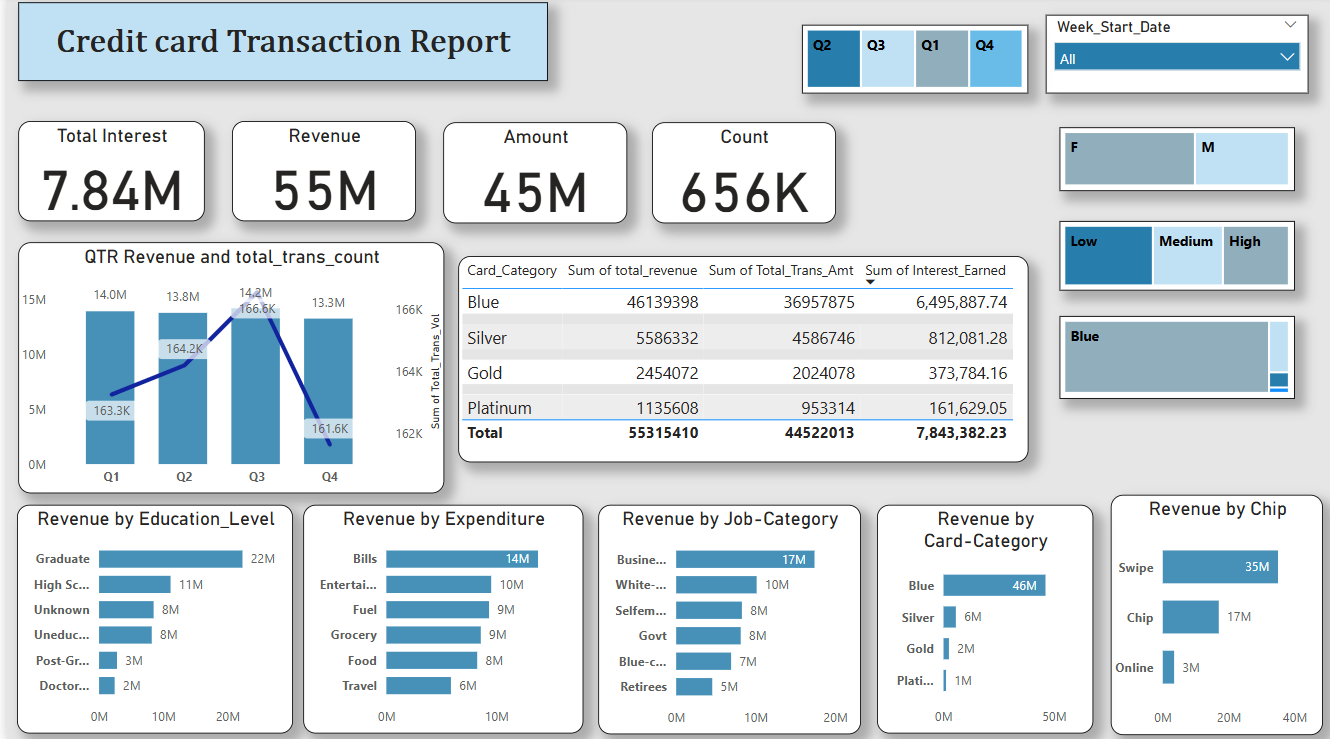

The dashboard page shown, as its layout file describes it:
{"tool":"powerbi","page":{"name":"cc_transaction","canvas":[1280,720],"ordinal":0},"visuals":[{"type":"lineStackedColumnComboChart","title":"QTR Revenue and total_trans_count","fields":{"Y":["Sum(credit_card.total_revenue)"],"Category":["credit_card.Qtr"],"Y2":["Sum(credit_card.Total_Trans_Vol)"]},"box":[10.9,237.7,411.4,242.5],"z":0},{"type":"clusteredBarChart","title":"Revenue by Education_Level","fields":{"Category":["customer.Education_Level"],"Y":["Sum(credit_card.total_revenue)"]},"box":[9.7,491,266.6,220.8],"z":1000},{"type":"barChart","title":"Revenue by Expenditure","fields":{"Y":["Sum(credit_card.total_revenue)"],"Category":["credit_card.Exp Type"]},"box":[285.9,491,270.2,220.8],"z":2000},{"type":"clusteredBarChart","title":"Revenue by Job-Category","fields":{"Category":["customer.Customer_Job"],"Y":["Sum(credit_card.total_revenue)"]},"box":[570.6,491,253.4,222],"z":3000},{"type":"barChart","title":"Revenue by Chip","fields":{"Y":["Sum(credit_card.total_revenue)"],"Category":["credit_card.Use Chip"]},"box":[1065.3,481.4,205.1,231.6],"z":4000},{"type":"barChart","title":"Revenue by Card-Category","fields":{"Y":["Sum(credit_card.total_revenue)"],"Category":["credit_card.Card_Category"]},"box":[839.7,491,208.7,220.8],"z":5000},{"type":"tableEx","fields":{"Values":["credit_card.Card_Category","Sum(credit_card.total_revenue)","Sum(credit_card.Total_Trans_Amt)","Sum(credit_card.Interest_Earned)"]},"box":[435.5,250.9,550.1,199.1],"z":6000},{"type":"card","title":"Revenue","fields":{"Values":["Sum(credit_card.total_revenue)"]},"box":[217.2,120.6,177.3,96.5],"z":7000},{"type":"card","title":"Total Interest","fields":{"Values":["Sum(credit_card.Interest_Earned)"]},"box":[10.9,120.6,179.8,96.5],"z":8000},{"type":"textbox","box":[10.9,6,511.5,76],"z":9000},{"type":"card","title":"Amount","fields":{"Values":["Sum(credit_card.Total_Trans_Amt)"]},"box":[421,121.9,177.3,97.7],"z":10000},{"type":"card","title":"Count","fields":{"Values":["Sum(credit_card.Total_Trans_Vol)"]},"box":[622.5,121.9,177.3,97.7],"z":11000},{"type":"slicer","fields":{"Values":["credit_card.Week_Start_Date"]},"box":[1002.6,18.1,253.4,76],"z":12000},{"type":"treemap","fields":{"Group":["credit_card.Qtr"],"Values":["CountNonNull(credit_card.Client_Num)"]},"box":[767.3,27.7,218.4,66.4],"z":13000},{"type":"treemap","fields":{"Values":["CountNonNull(credit_card.Client_Num)"],"Group":["customer.Gender"]},"box":[1015.8,126.7,226.8,61.5],"z":14000},{"type":"treemap","fields":{"Group":["credit_card.Card_Category"],"Values":["CountNonNull(credit_card.Client_Num)"]},"box":[1015.8,308.8,226.8,79.6],"z":15000},{"type":"treemap","fields":{"Group":["customer.income_grp"],"Values":["CountNonNull(credit_card.Client_Num)"]},"box":[1015.8,217.2,226.8,67.6],"z":16000}]}

Visuals, with their boxes in screenshot pixels (x1, y1, x2, y2), scaled from the page's 1280x720 canvas onto the 1330x739 screenshot:
"QTR Revenue and total_trans_count" lineStackedColumnComboChart: bbox=(11, 244, 439, 493)
"Revenue by Education_Level" clusteredBarChart: bbox=(10, 504, 287, 731)
"Revenue by Expenditure" barChart: bbox=(297, 504, 578, 731)
"Revenue by Job-Category" clusteredBarChart: bbox=(593, 504, 856, 732)
"Revenue by Chip" barChart: bbox=(1107, 494, 1320, 732)
"Revenue by Card-Category" barChart: bbox=(873, 504, 1089, 731)
tableEx - credit_card.Card_Category x Sum(credit_card.total_revenue): bbox=(453, 258, 1024, 462)
"Revenue" card: bbox=(226, 124, 410, 223)
"Total Interest" card: bbox=(11, 124, 198, 223)
textbox: bbox=(11, 6, 543, 84)
"Amount" card: bbox=(437, 125, 622, 225)
"Count" card: bbox=(647, 125, 831, 225)
slicer - credit_card.Week_Start_Date: bbox=(1042, 19, 1305, 97)
treemap - credit_card.Qtr x CountNonNull(credit_card.Client_Num): bbox=(797, 28, 1024, 97)
treemap - CountNonNull(credit_card.Client_Num) x customer.Gender: bbox=(1055, 130, 1291, 193)
treemap - credit_card.Card_Category x CountNonNull(credit_card.Client_Num): bbox=(1055, 317, 1291, 399)
treemap - customer.income_grp x CountNonNull(credit_card.Client_Num): bbox=(1055, 223, 1291, 292)
